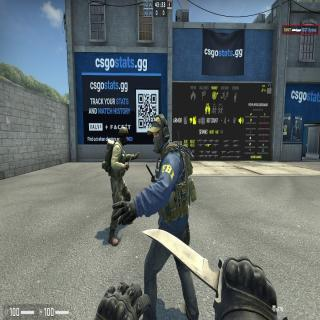CT-Body: (153, 116, 187, 312), (108, 125, 131, 245)
CT-Head: (153, 117, 167, 154), (119, 128, 128, 147)
